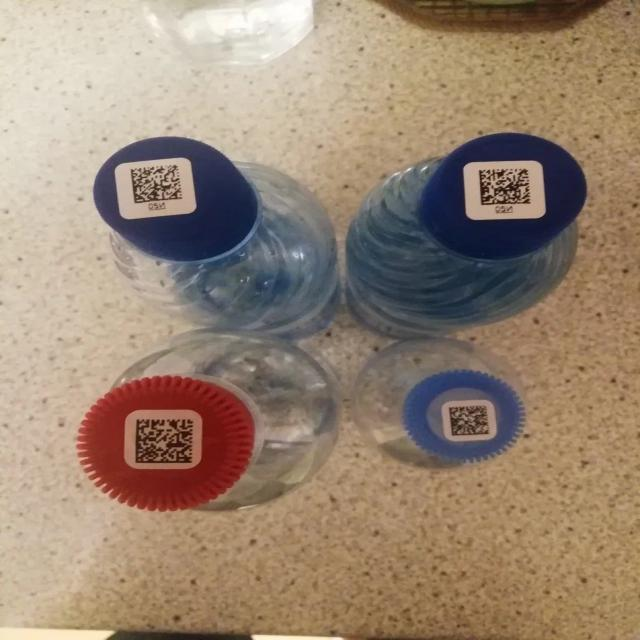datamatrix: (135, 417, 195, 466), (130, 163, 189, 206), (478, 166, 536, 208), (449, 404, 492, 438)
